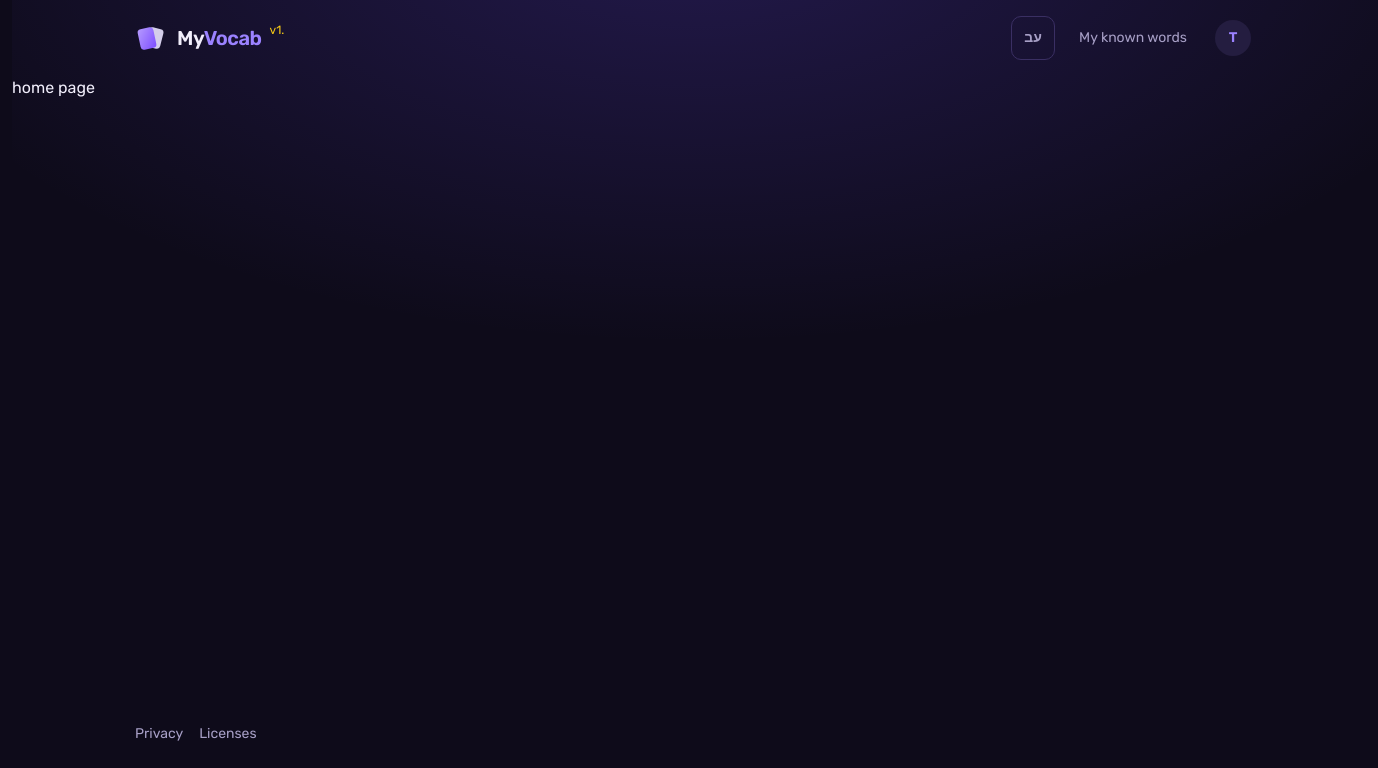
header (FR-L70) › shows the account menu with its links and closes it with Escape
Click the button named "Account menu": (1233, 38) [1211,16,1255,60]
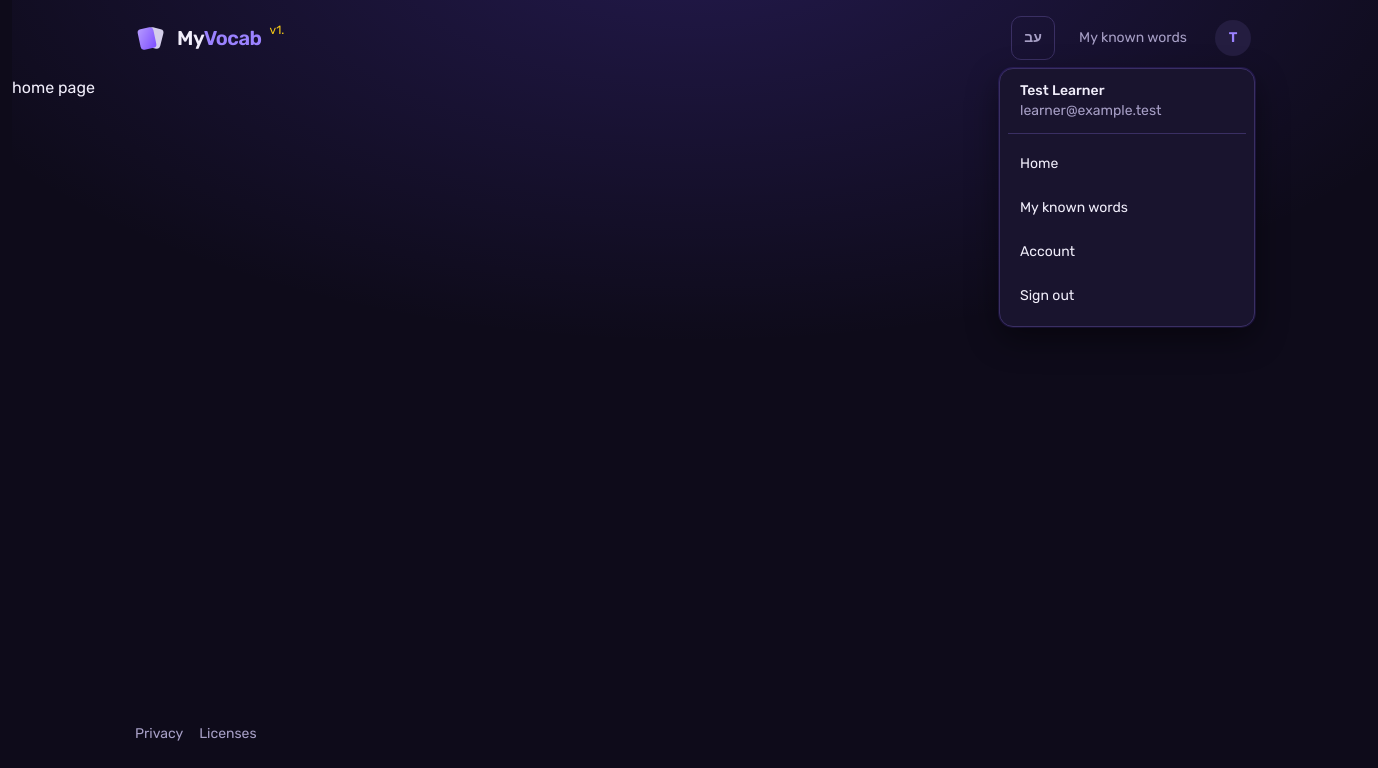
Expected: the 1st link "My known words" is shown, [1079,29,1187,46]
Expected: the button "Sign out" is shown, [1008,274,1246,318]
Press Escape
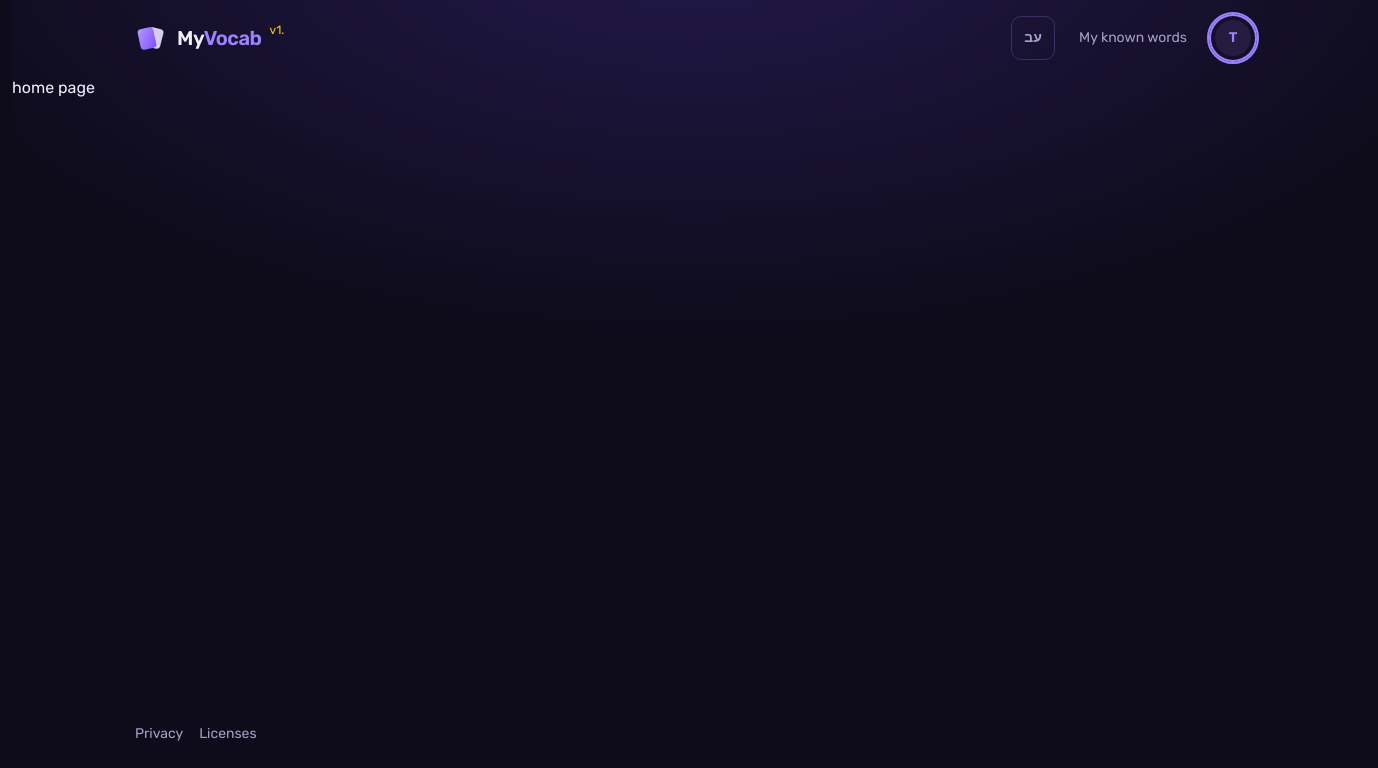
Expected: the button named "Account menu" is collapsed, [1211,16,1255,60]
